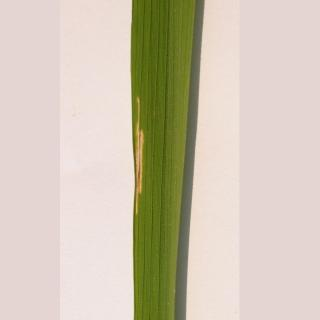Hawar-Daun: (125, 111, 158, 202)
